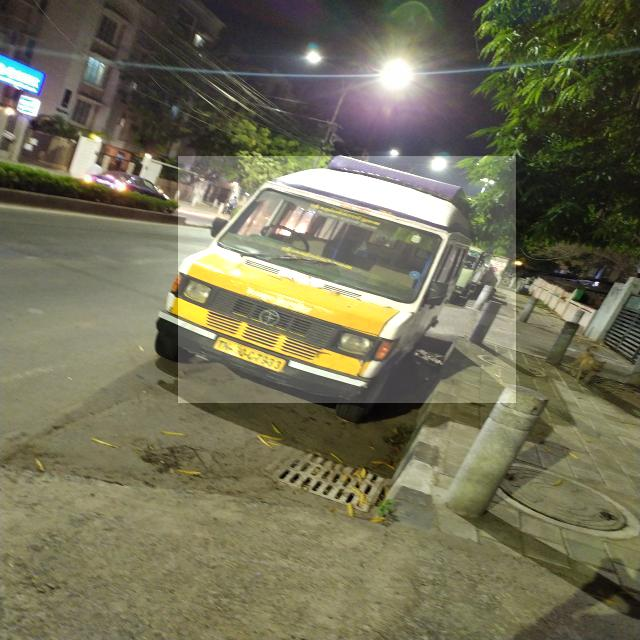Travller: (178, 156, 516, 403)
